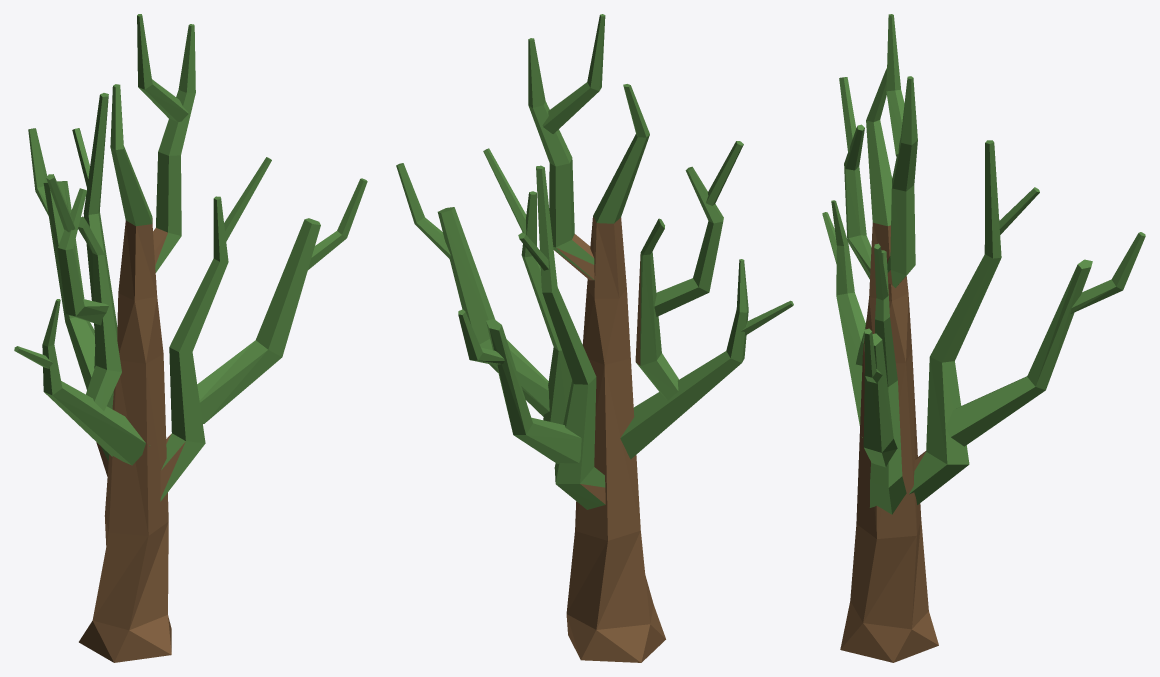
The model's file is tree3d-177.glb.
3 renders of one model, left to right at view 1: azimuth 30°, elevation 25°; view 2: azimuth 150°, elevation 25°; view 3: azimuth 270°, elevation 25°, orthographic.
Parts seen in each view (by area): view 1: tree3d-177; view 2: tree3d-177; view 3: tree3d-177.
Boxes of the visible parts, x1,y1,x2,y2 form: tree3d-177: (14,14,367,662); tree3d-177: (396,14,793,662); tree3d-177: (822,14,1145,662).
Size of the model in its own units: 0.6269 by 1 by 0.4637.
